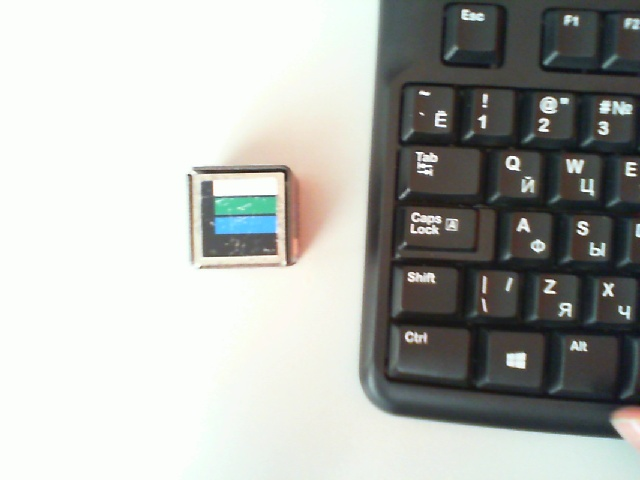square: (200, 179, 279, 257)
